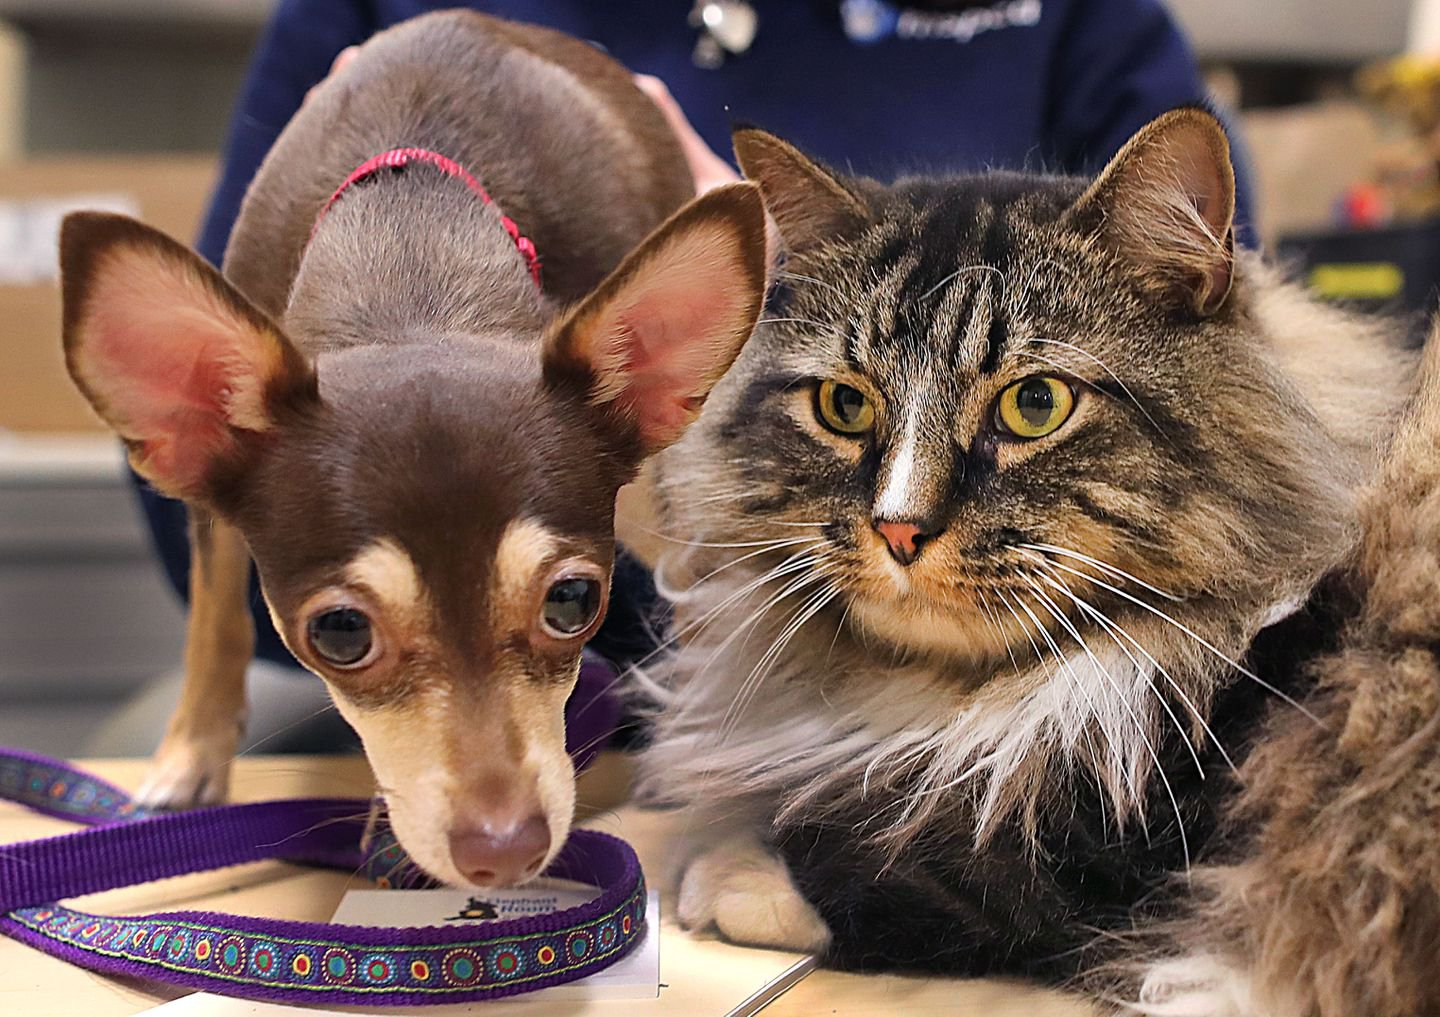cat: (677, 94, 1440, 967)
dog: (56, 14, 801, 903)
